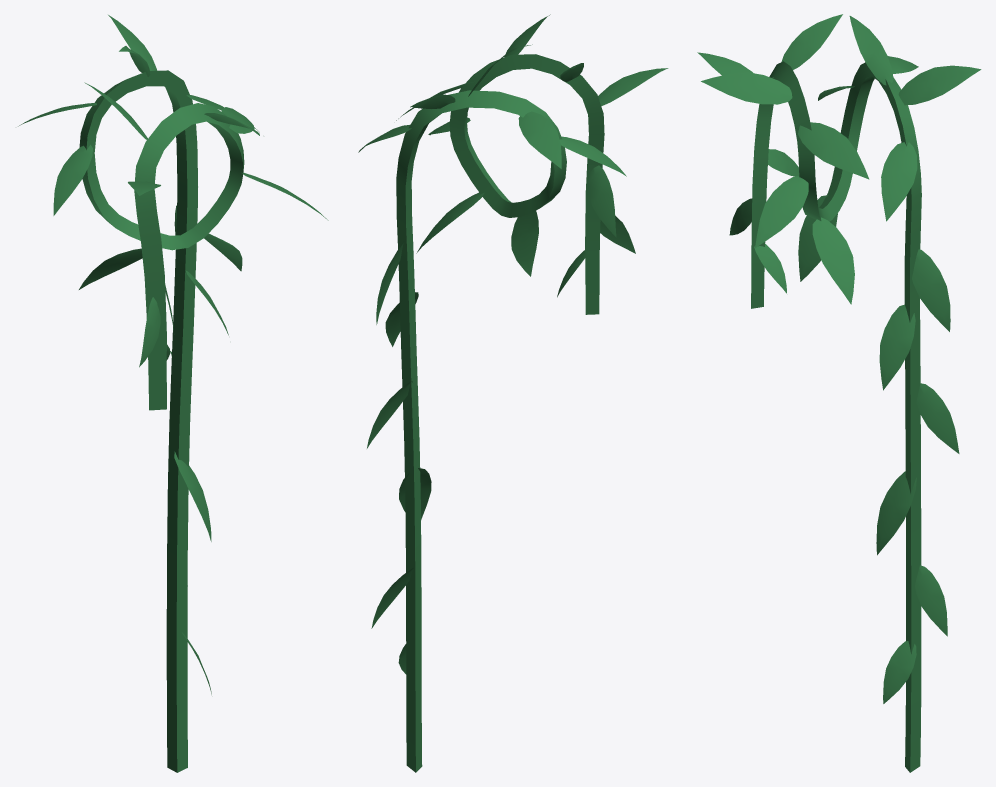
Rendered from vine_L_scanden.fbx.
The picture shows the model from 3 angles, left to right: view 1: azimuth 30°, elevation 25°; view 2: azimuth 150°, elevation 25°; view 3: azimuth 270°, elevation 25°; orthographic projection. The views are drawn at different scales.
Visible parts, largest first — view 1: vine_L_scanden_root, vine_L_scanden_A_leaf_A8, vine_L_scanden_A_leaf_A4, vine_L_scanden_A_leaf_A, vine_L_scanden_A_leaf_A20, vine_L_scanden_A_leaf_A12; view 2: vine_L_scanden_root, vine_L_scanden_A_leaf_A9, vine_L_scanden_A_leaf_A1, vine_L_scanden_A_leaf_A, vine_L_scanden_A_leaf_A6, vine_L_scanden_A_leaf_A8, vine_L_scanden_A_leaf_A15, vine_L_scanden_A_leaf_A13, vine_L_scanden_A_leaf_A4, vine_L_scanden_A_leaf_A2, vine_L_scanden_A_leaf_A20, vine_L_scanden_A_leaf_A3; view 3: vine_L_scanden_root, vine_L_scanden_A_leaf_A13, vine_L_scanden_A_leaf_A11, vine_L_scanden_A_leaf_A5, vine_L_scanden_A_leaf_A14, vine_L_scanden_A_leaf_A18, vine_L_scanden_A_leaf_A7, vine_L_scanden_A_leaf_A12, vine_L_scanden_A_leaf_A3, vine_L_scanden_A_leaf_A4, vine_L_scanden_A_leaf_A15, vine_L_scanden_A_leaf_A19 (+8 smaller).
Part boxes in pixels (x1=…): vine_L_scanden_root: x1=79, y1=70, x2=244, y2=772; vine_L_scanden_A_leaf_A8: x1=53, y1=144, x2=92, y2=215; vine_L_scanden_A_leaf_A4: x1=174, y1=451, x2=211, y2=541; vine_L_scanden_A_leaf_A: x1=79, y1=248, x2=142, y2=289; vine_L_scanden_A_leaf_A20: x1=139, y1=297, x2=160, y2=367; vine_L_scanden_A_leaf_A12: x1=108, y1=15, x2=156, y2=70; vine_L_scanden_root: x1=396, y1=54, x2=604, y2=772; vine_L_scanden_A_leaf_A9: x1=518, y1=111, x2=561, y2=168; vine_L_scanden_A_leaf_A1: x1=511, y1=211, x2=538, y2=276; vine_L_scanden_A_leaf_A: x1=587, y1=165, x2=616, y2=237; vine_L_scanden_A_leaf_A6: x1=598, y1=68, x2=668, y2=106; vine_L_scanden_A_leaf_A8: x1=559, y1=136, x2=626, y2=176; vine_L_scanden_A_leaf_A15: x1=367, y1=381, x2=412, y2=448; vine_L_scanden_A_leaf_A13: x1=416, y1=192, x2=484, y2=253; vine_L_scanden_A_leaf_A4: x1=399, y1=468, x2=431, y2=519; vine_L_scanden_A_leaf_A2: x1=371, y1=568, x2=413, y2=628; vine_L_scanden_A_leaf_A20: x1=600, y1=216, x2=635, y2=253; vine_L_scanden_A_leaf_A3: x1=376, y1=242, x2=403, y2=324; vine_L_scanden_root: x1=751, y1=61, x2=921, y2=772; vine_L_scanden_A_leaf_A13: x1=812, y1=217, x2=854, y2=304; vine_L_scanden_A_leaf_A11: x1=798, y1=122, x2=869, y2=179; vine_L_scanden_A_leaf_A5: x1=755, y1=176, x2=808, y2=247; vine_L_scanden_A_leaf_A14: x1=701, y1=72, x2=792, y2=104; vine_L_scanden_A_leaf_A18: x1=881, y1=142, x2=917, y2=221; vine_L_scanden_A_leaf_A7: x1=879, y1=304, x2=915, y2=390; vine_L_scanden_A_leaf_A12: x1=898, y1=65, x2=981, y2=105; vine_L_scanden_A_leaf_A3: x1=912, y1=249, x2=950, y2=331; vine_L_scanden_A_leaf_A4: x1=876, y1=471, x2=916, y2=555; vine_L_scanden_A_leaf_A15: x1=916, y1=383, x2=959, y2=453; vine_L_scanden_A_leaf_A19: x1=781, y1=14, x2=842, y2=69.
Size of the model in its own units: 67.23 by 198 by 71.74.
